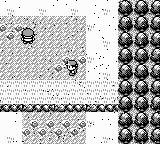main: (65, 60, 78, 76)
no-caminable: (118, 0, 160, 144)
npc: (21, 28, 35, 44)
salto: (0, 104, 118, 112)
